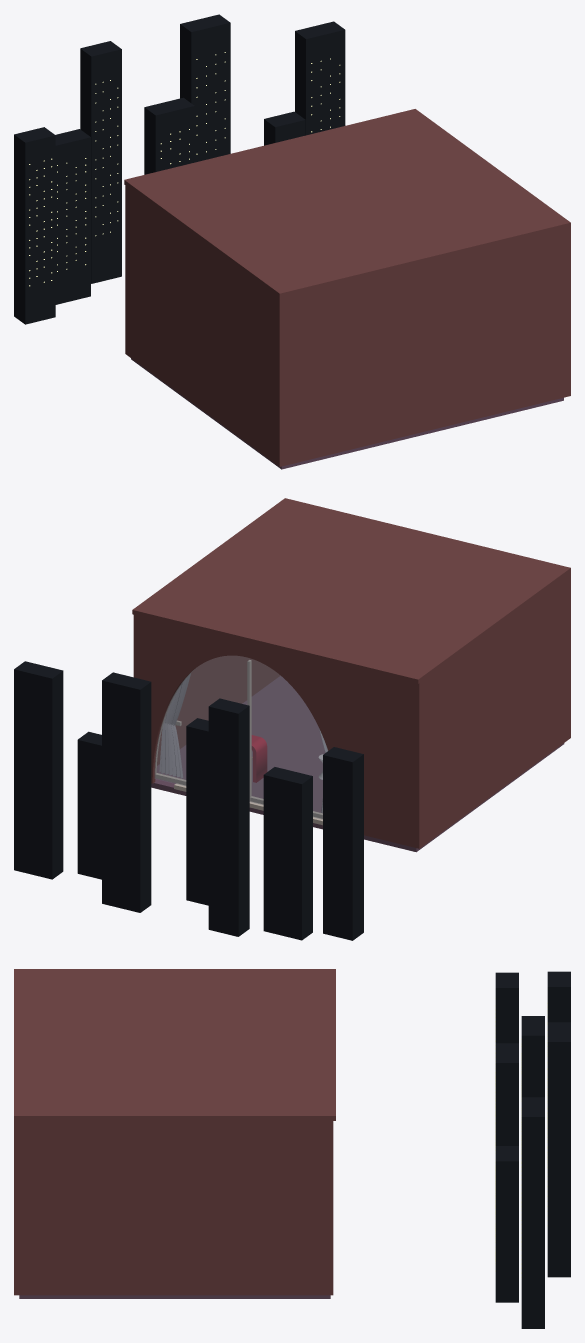
3 renders of one model, top to bottom at view 1: azimuth 30°, elevation 25°; view 2: azimuth 150°, elevation 25°; view 3: azimuth 270°, elevation 25°, orthographic. The views are drawn at different scales.
Parts seen in each view (by area): view 1: WALL_front_inferred, CEILING_inferred, WALL_left_inferred, CONTEXT_city_mass_2, CONTEXT_city_mass_0, CONTEXT_city_mass_4, CONTEXT_city_mass_1, CONTEXT_city_mass_6, CONTEXT_city_mass_3, FLOOR_bounded, CONTEXT_city_mass_5; view 2: CEILING_inferred, WALL_left_inferred, WINDOW_glazing, CONTEXT_city_mass_4, WALL_rear_left, CONTEXT_city_mass_6, CONTEXT_city_mass_2, CONTEXT_city_mass_1, CONTEXT_city_mass_0, FLOOR_bounded, CONTEXT_city_mass_3, WALL_right_inferred (+4 smaller); view 3: WALL_right_inferred, CEILING_inferred, CONTEXT_city_mass_4, CONTEXT_city_mass_6, CONTEXT_city_mass_5, CONTEXT_city_mass_3, CONTEXT_city_mass_1, CONTEXT_city_mass_0, FLOOR_bounded, CONTEXT_city_mass_2, WALL_front_inferred, WALL_rear_right.
Boxes of the visible parts, left/top/right/bottom form: WALL_front_inferred: left=277, top=227, right=570, bottom=466; CEILING_inferred: left=124, top=109, right=570, bottom=297; WALL_left_inferred: left=126, top=187, right=277, bottom=464; CONTEXT_city_mass_2: left=80, top=41, right=121, bottom=283; CONTEXT_city_mass_0: left=14, top=127, right=55, bottom=324; CONTEXT_city_mass_4: left=180, top=14, right=230, bottom=162; CONTEXT_city_mass_1: left=55, top=129, right=90, bottom=304; CONTEXT_city_mass_6: left=295, top=21, right=345, bottom=135; CONTEXT_city_mass_3: left=144, top=97, right=194, bottom=174; FLOOR_bounded: left=131, top=358, right=563, bottom=469; CONTEXT_city_mass_5: left=264, top=111, right=305, bottom=145; CEILING_inferred: left=132, top=498, right=570, bottom=683; WALL_left_inferred: left=421, top=574, right=568, bottom=846; WINDOW_glazing: left=154, top=656, right=327, bottom=819; CONTEXT_city_mass_4: left=102, top=672, right=151, bottom=912; WALL_rear_left: left=340, top=665, right=421, bottom=848; CONTEXT_city_mass_6: left=14, top=661, right=63, bottom=879; CONTEXT_city_mass_2: left=208, top=698, right=249, bottom=936; CONTEXT_city_mass_1: left=263, top=767, right=312, bottom=940; CONTEXT_city_mass_0: left=323, top=747, right=363, bottom=940; FLOOR_bounded: left=151, top=676, right=564, bottom=852; CONTEXT_city_mass_3: left=186, top=718, right=208, bottom=905; WALL_right_inferred: left=157, top=655, right=280, bottom=765; WALL_right_inferred: left=19, top=1121, right=330, bottom=1295; CEILING_inferred: left=14, top=969, right=335, bottom=1120; CONTEXT_city_mass_4: left=547, top=1022, right=570, bottom=1277; CONTEXT_city_mass_6: left=521, top=1097, right=544, bottom=1328; CONTEXT_city_mass_5: left=495, top=1146, right=518, bottom=1302; CONTEXT_city_mass_3: left=495, top=1043, right=518, bottom=1145; CONTEXT_city_mass_1: left=521, top=1016, right=544, bottom=1097; CONTEXT_city_mass_0: left=495, top=972, right=518, bottom=1043; FLOOR_bounded: left=19, top=1295, right=330, bottom=1298; CONTEXT_city_mass_2: left=547, top=971, right=570, bottom=1022; WALL_front_inferred: left=14, top=1121, right=19, bottom=1295; WALL_rear_right: left=328, top=1121, right=333, bottom=1295.
Size of the model in its own units: 15.3 by 10 by 21.45.
